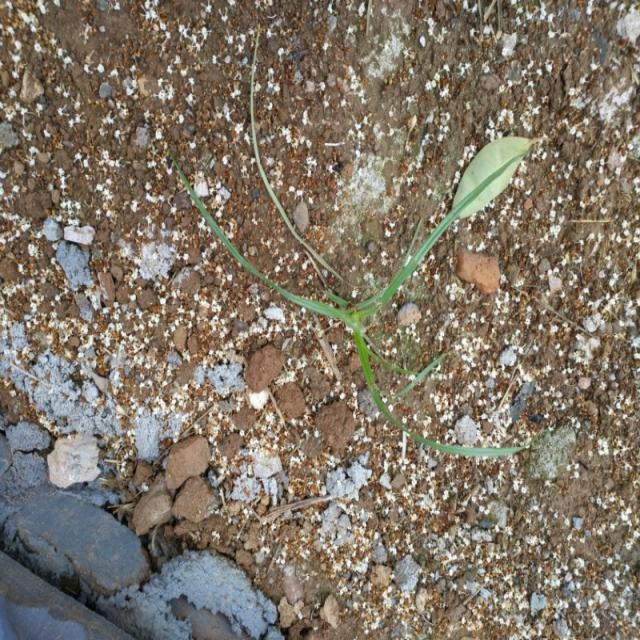sedge: (201, 145, 528, 495)
